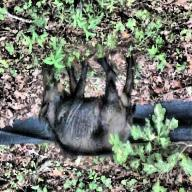boar: (35, 54, 139, 174)
